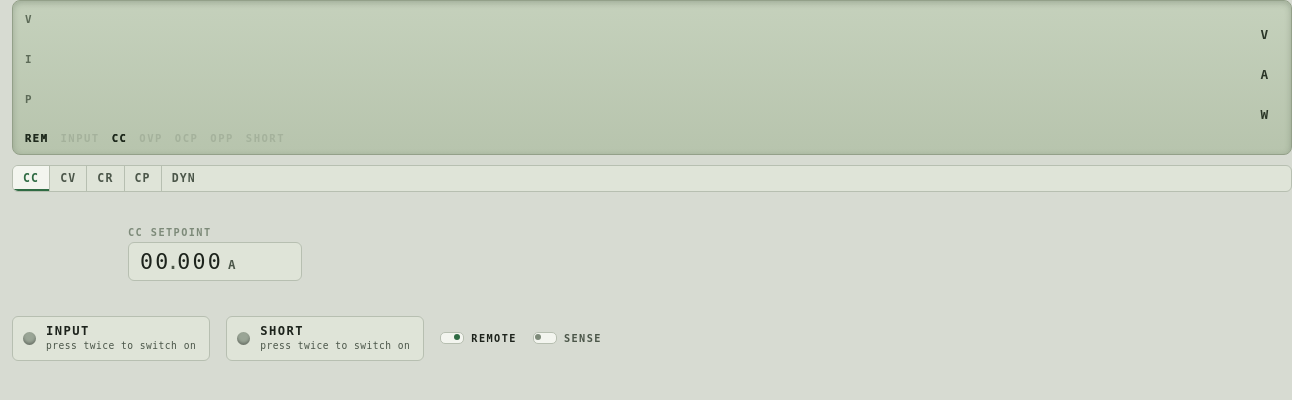
Test case: EllPanel › shows why a request was refused
The image size is (1292, 400).
Click the button "CV" at (68, 178), box [49,166,86,191]
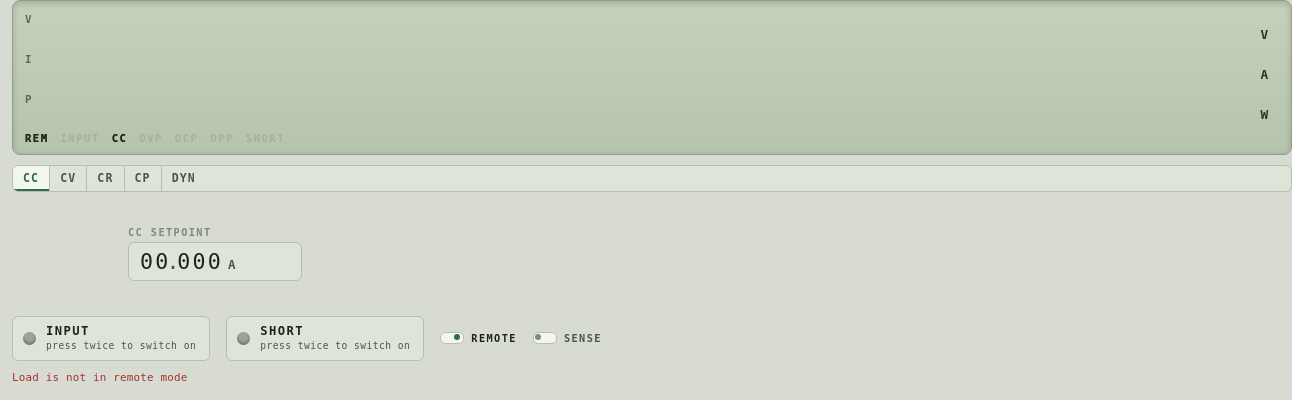
Now the text "Load is not in remote mode" is shown, box [12,371,187,384]
